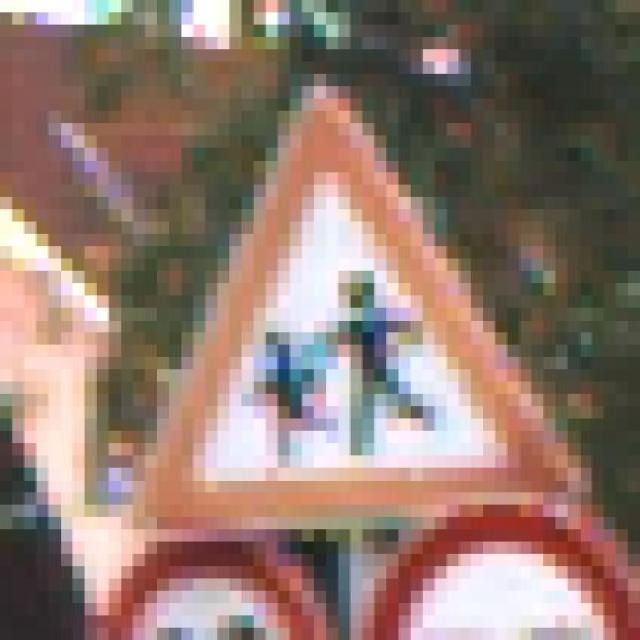Beware of children: (120, 61, 580, 542)
